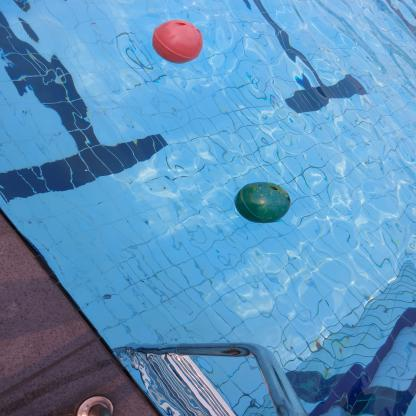green_buoy: (232, 178, 294, 228)
red_buoy: (148, 17, 205, 66)
